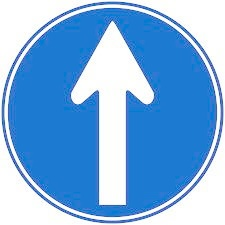Direction_sign: (3, 1, 222, 222)
